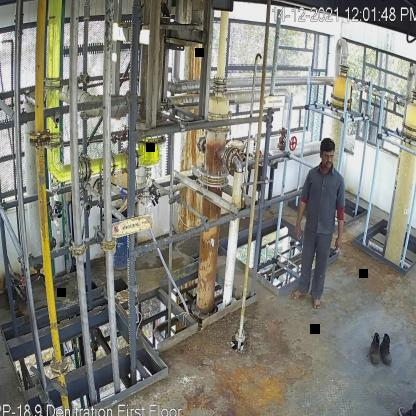no_shoes: (290, 289, 307, 300), (310, 298, 321, 312)
shoes: (368, 331, 384, 366), (380, 334, 394, 364)
